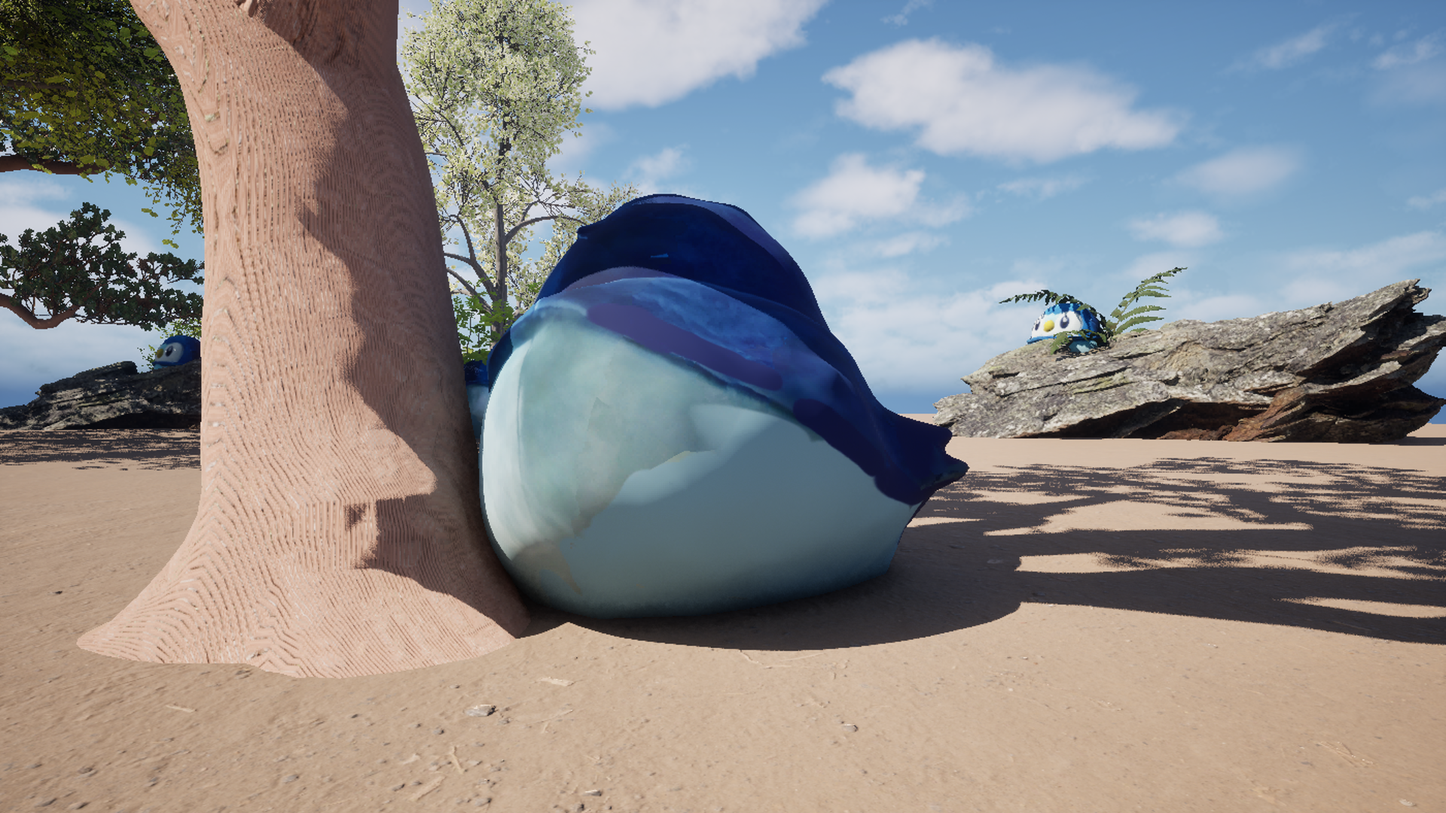Piplup: (95, 0, 1401, 813)
